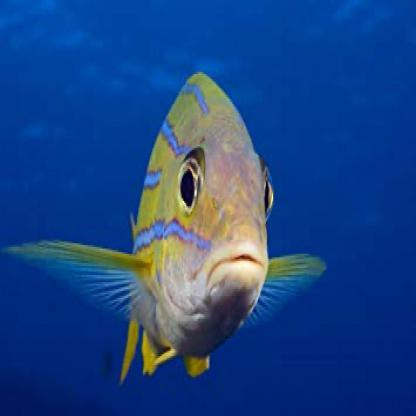snapper: (7, 68, 330, 391)
